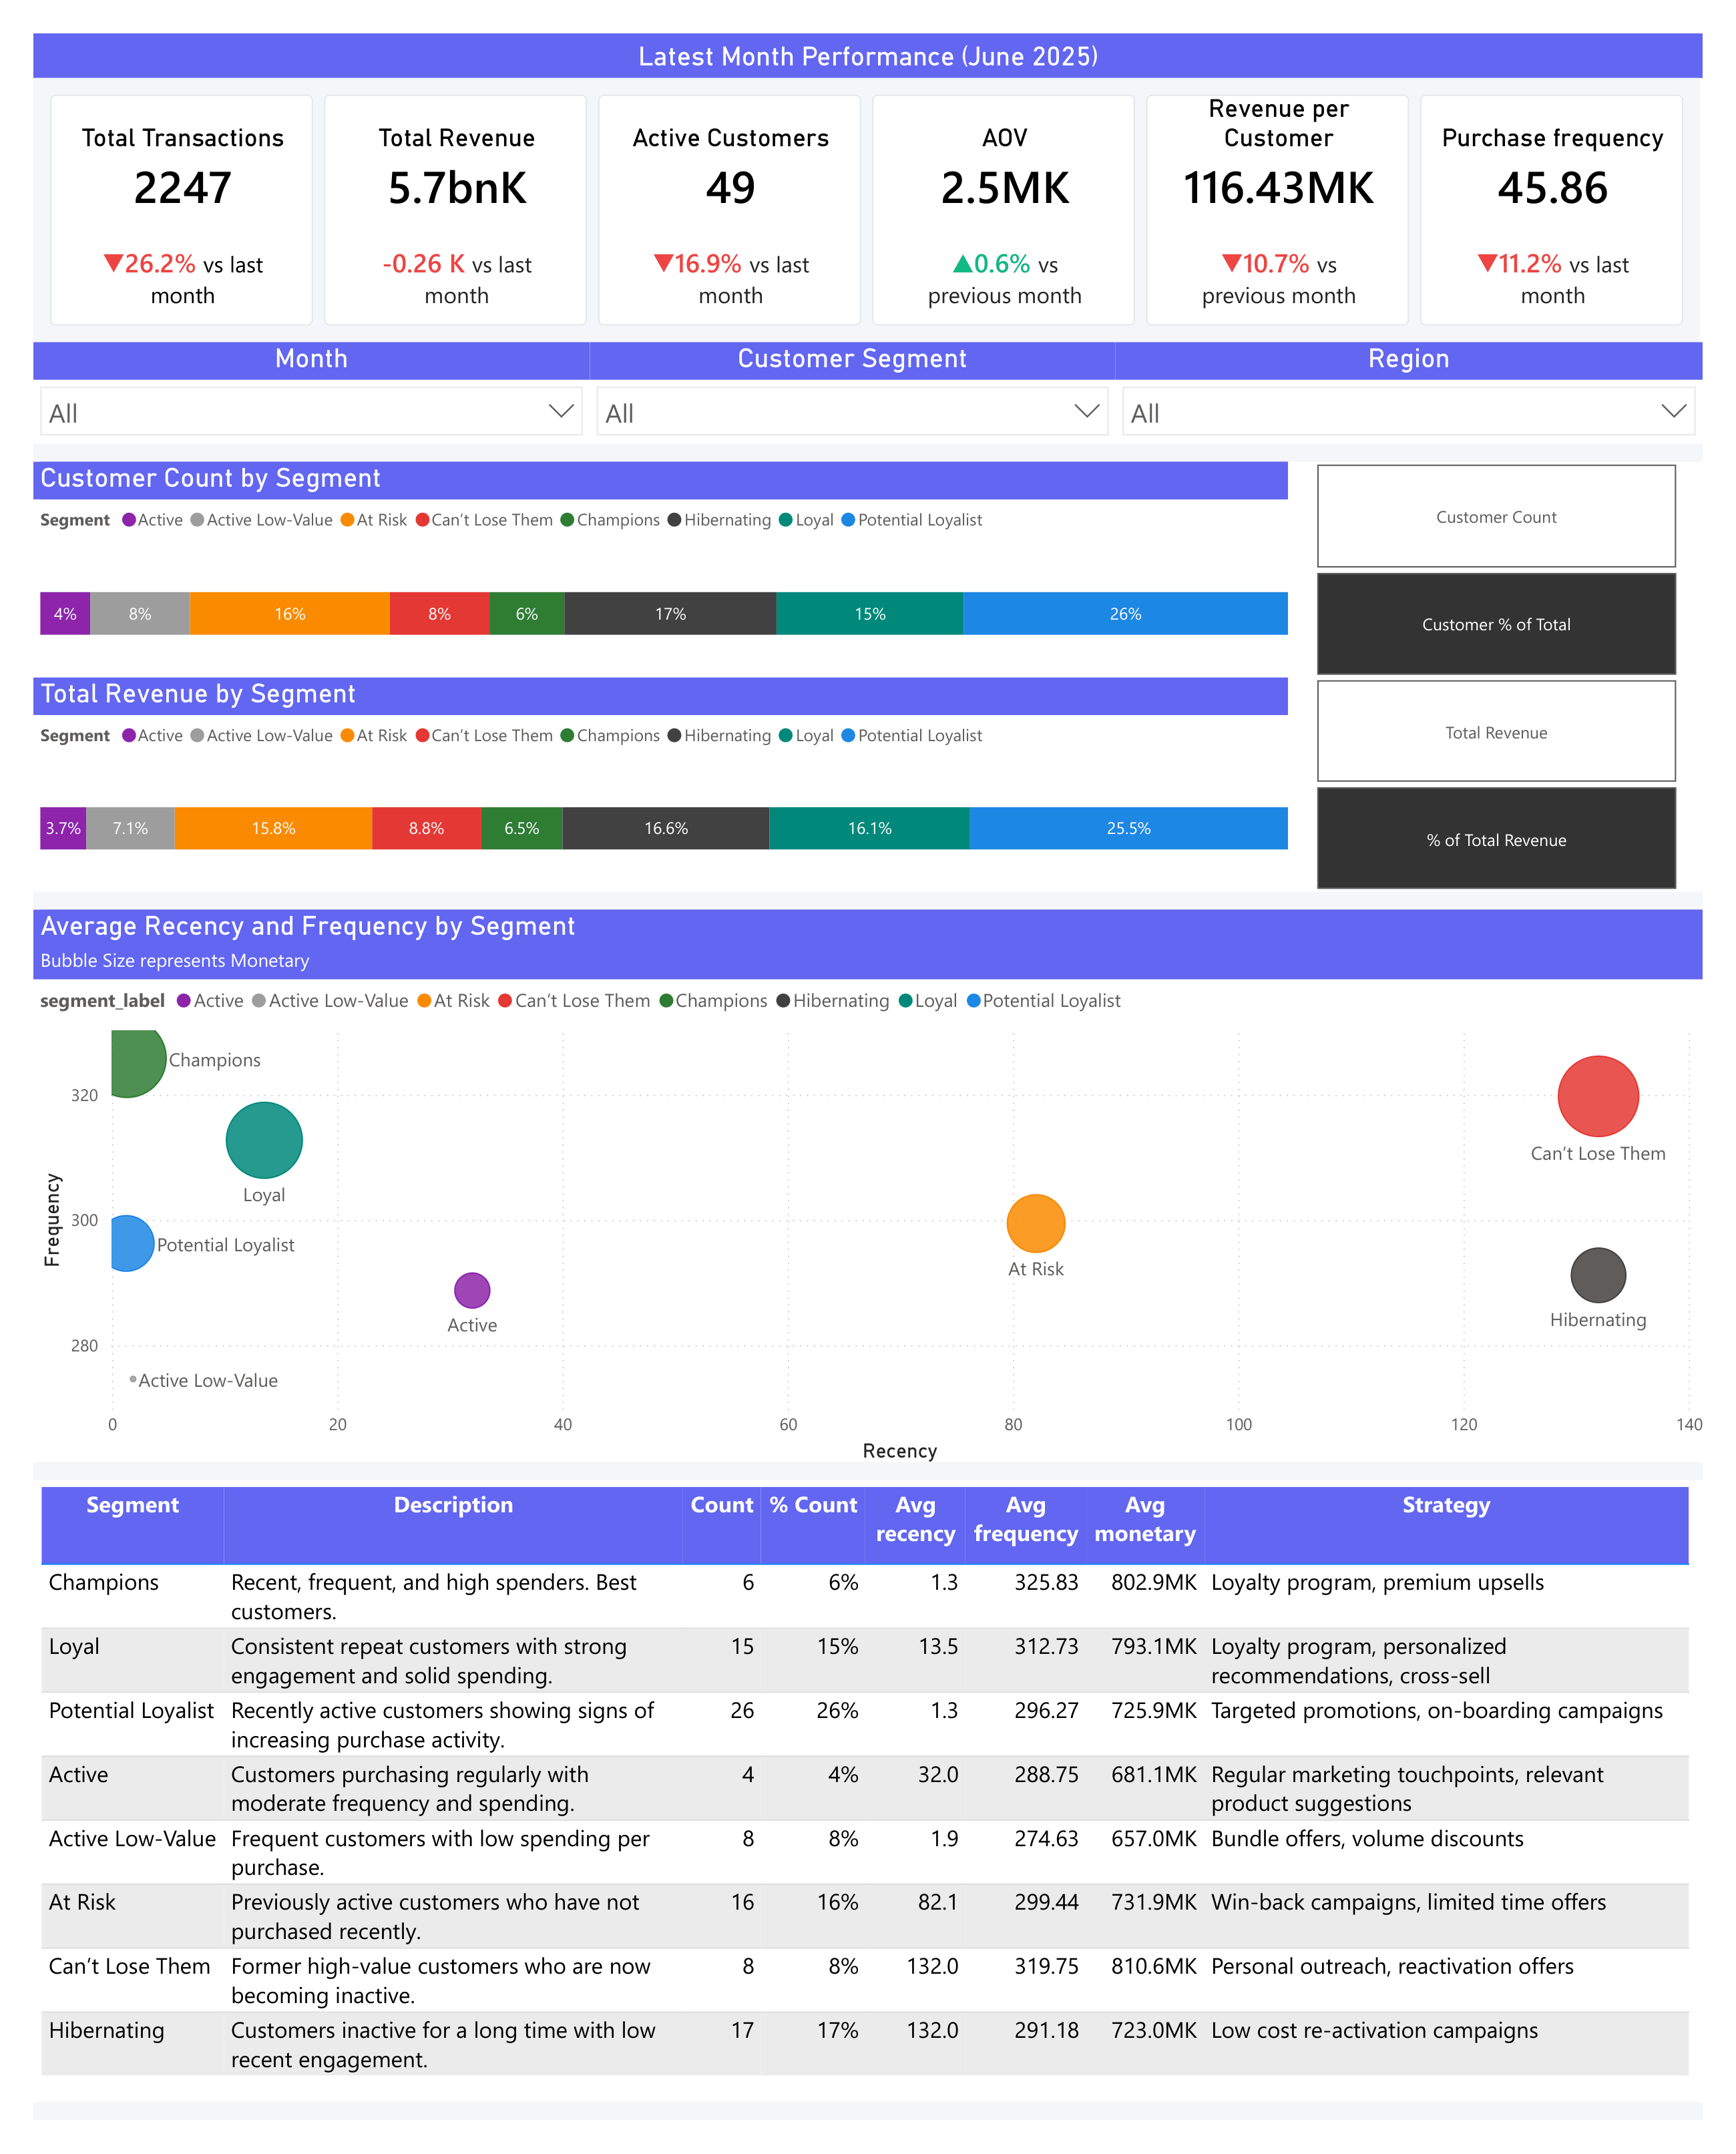

The page's visual inventory and layout, read from the dashboard file:
{"tool":"powerbi","page":{"name":"Customer Segmentation (RFM)","canvas":[1200,1500],"ordinal":2},"visuals":[{"type":"scatterChart","title":"Average Recency and Frequency by Segment","fields":{"X":["dim_customers.Avg recency"],"Y":["dim_customers.Avg frequency"],"Size":["dim_customers.Avg monetary"],"Series":["dim_customers.segment_label"]},"box":[0,630,1200,396.7],"z":0},{"type":"barChart","title":"Total Revenue by Segment","fields":{"Y":["fact_transactions.Revenue % of Total (Segment)"],"Series":["dim_customers.segment_label"]},"box":[0,463.3,901.7,153.3],"z":1000},{"type":"tableEx","fields":{"Values":["Segments.segment_label","Segments.Description","dim_customers.Total Customers","select","dim_customers.Avg recency","dim_customers.Avg frequency","dim_customers.Avg monetary","Segments.Strategy"]},"box":[0,1040,1200,446.7],"z":2000},{"type":"barChart","title":"Customer Count by Segment","fields":{"Y":["dim_customers.Customer Count % of Total (Segment)"],"Series":["dim_customers.segment_label"]},"box":[0,308.3,901.7,155],"z":3000},{"type":"cardVisual","title":"Latest Month Performance (June 2025)","fields":{"Data":["fact_transactions.Total transactions","fact_transactions.Total revenue","fact_transactions.Active customers","fact_transactions.AOV","fact_transactions.Revenue per Customer","fact_transactions.Purchase frequency"]},"box":[0,0,1200,221.7],"z":4000},{"type":"slicer","title":"Customer Segment","fields":{"Values":["dim_customers.segment_label"]},"box":[400,221.7,378.3,73.3],"z":5000},{"type":"slicer","title":"Month","fields":{"Values":["dim_date.MonthName"]},"box":[0,221.7,400,73.3],"z":6000},{"type":"slicer","title":"Region","fields":{"Values":["dim_customers.region"]},"box":[778.3,221.7,421.7,73.3],"z":7000},{"type":"slicer","fields":{"Values":["Customer Count Parameter.Customer Count Parameter"]},"box":[901.7,308.3,298.3,155],"z":8000},{"type":"slicer","fields":{"Values":["Revenue Parameter.Revenue Parameter"]},"box":[901.7,463.3,298.3,153.3],"z":9000}]}

Visuals, with their boxes on the page's 1200x1500 design canvas (x1, y1, x2, y2). These are canvas units, not pixel positions in the 1736x2154 screenshot, which may show the page scaled, cropped or inside an application window:
"Average Recency and Frequency by Segment" scatterChart: 0:630:1200:1027
"Total Revenue by Segment" barChart: 0:463:902:617
tableEx - Segments.segment_label x Segments.Description: 0:1040:1200:1487
"Customer Count by Segment" barChart: 0:308:902:463
"Latest Month Performance (June 2025)" cardVisual: 0:0:1200:222
"Customer Segment" slicer: 400:222:778:295
"Month" slicer: 0:222:400:295
"Region" slicer: 778:222:1200:295
slicer - Customer Count Parameter.Customer Count Parameter: 902:308:1200:463
slicer - Revenue Parameter.Revenue Parameter: 902:463:1200:617
